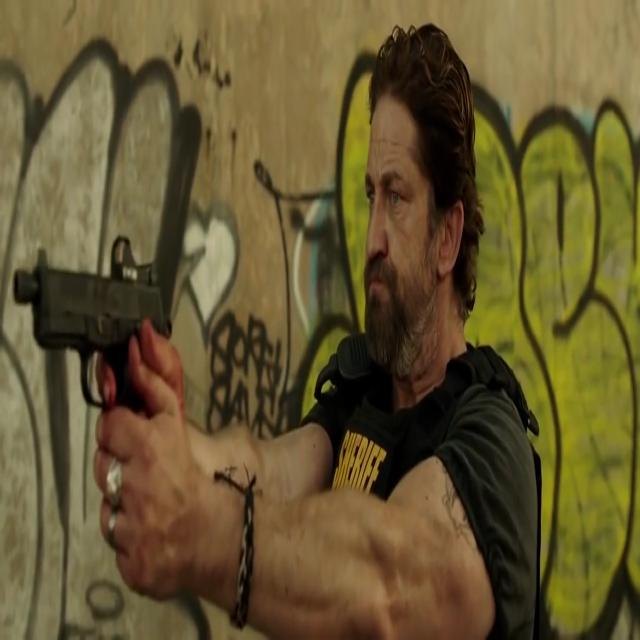Weapon: (4, 215, 188, 423)
